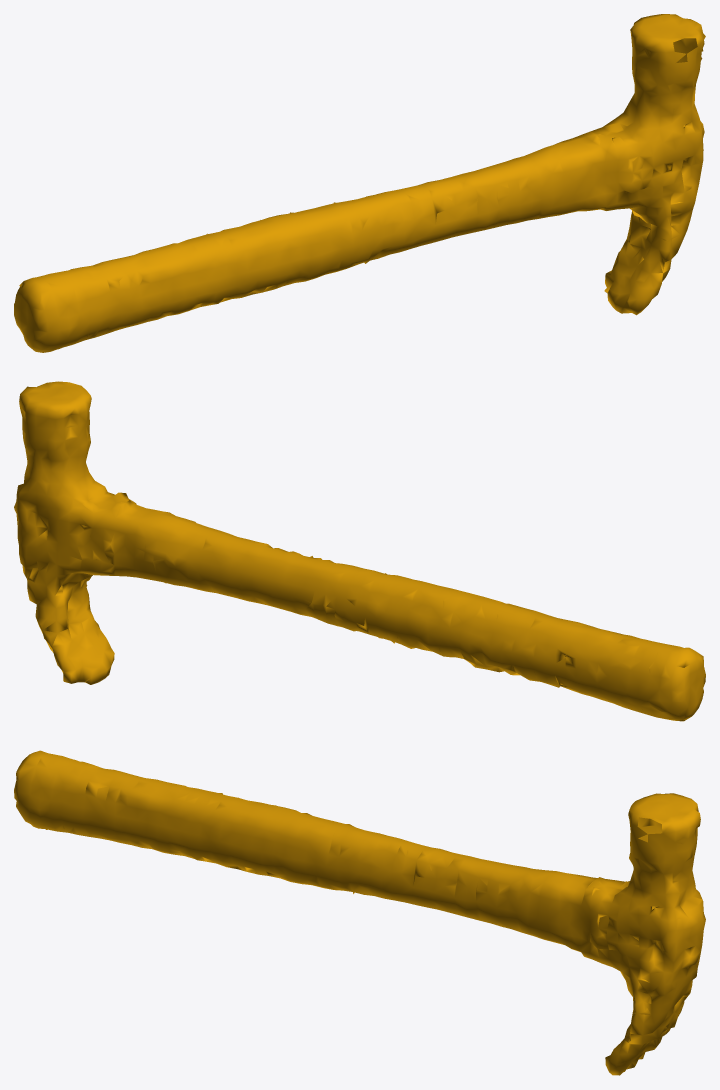
File: model_origin.obj
3 renders of one model, top to bottom at view 1: azimuth 30°, elevation 25°; view 2: azimuth 150°, elevation 25°; view 3: azimuth 330°, elevation 25°, orthographic.
Size of the model in its own units: 1.01 by 0.3907 by 0.1087.
